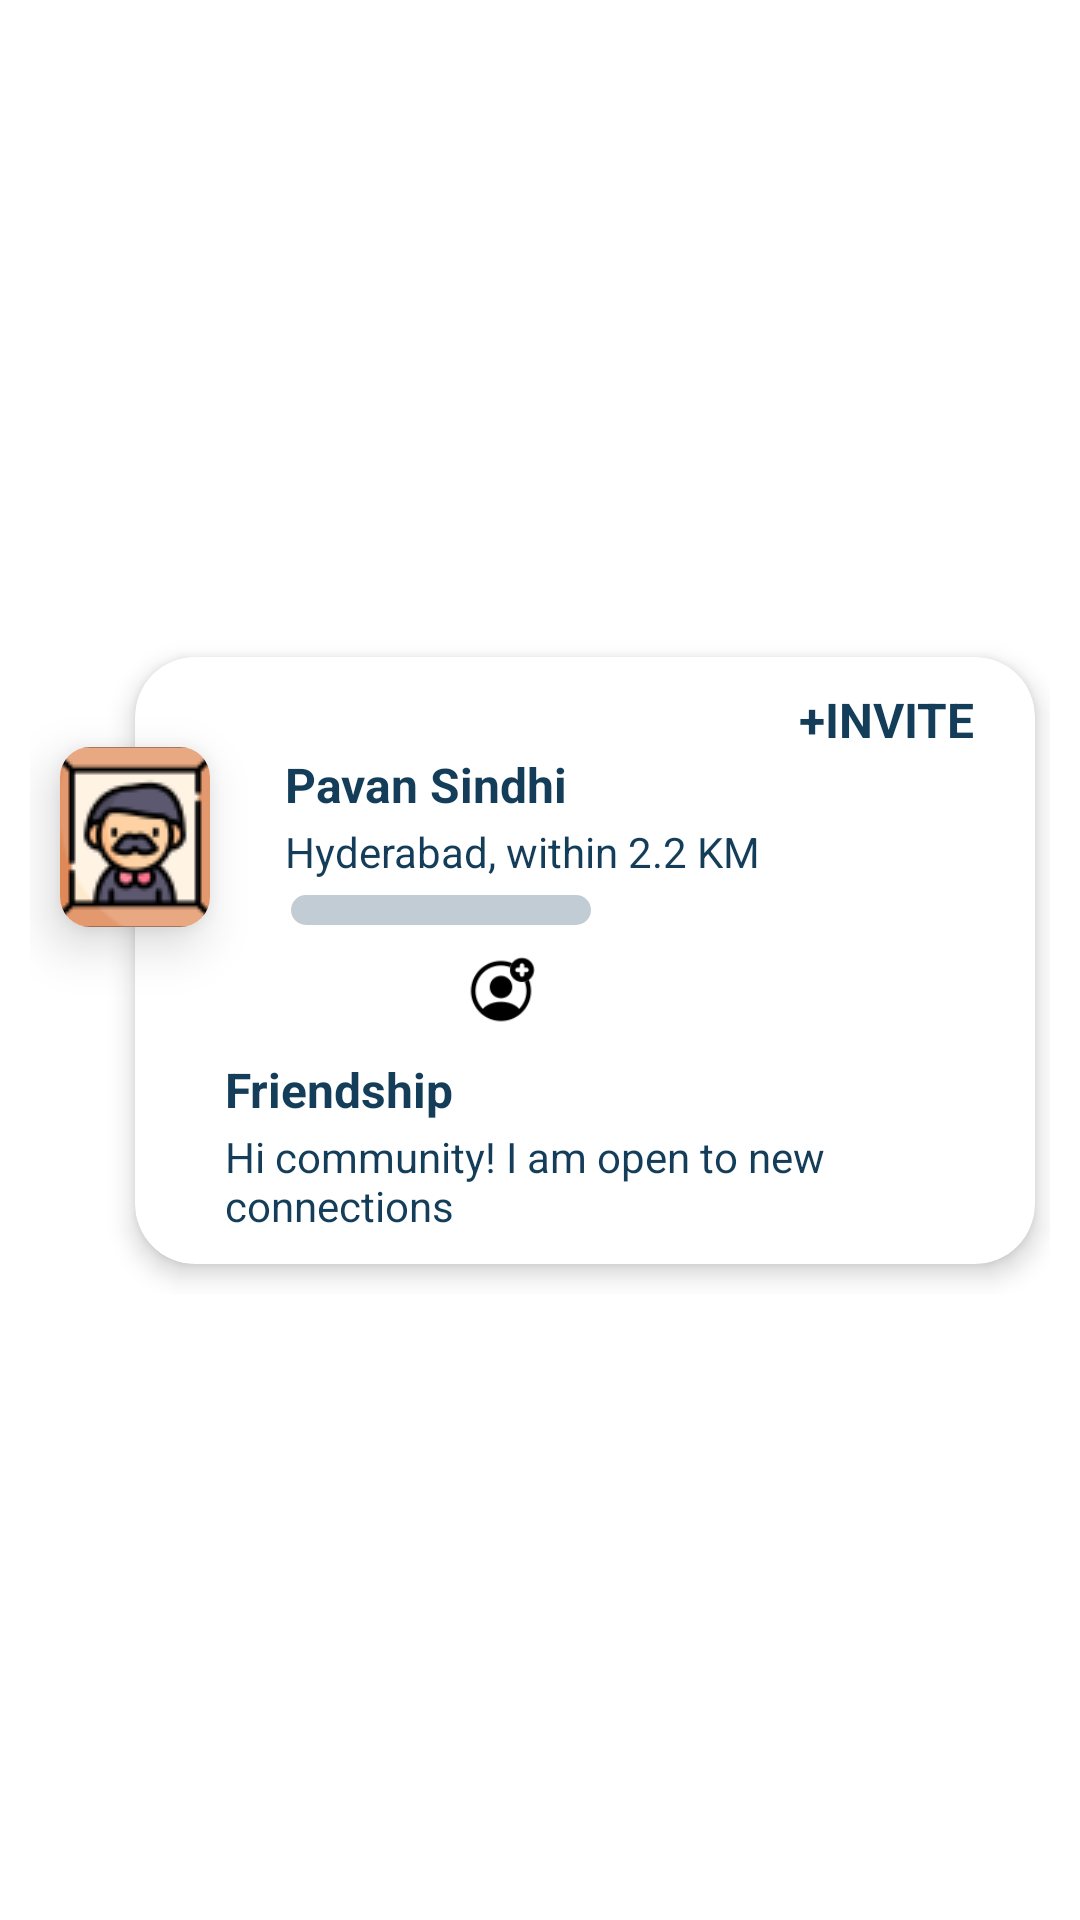

Where icons sit on this 1080×1920 app screen, as (x1, y1, x2, y2):
add contact: (470, 957, 535, 1022)
user: (60, 747, 210, 927)
